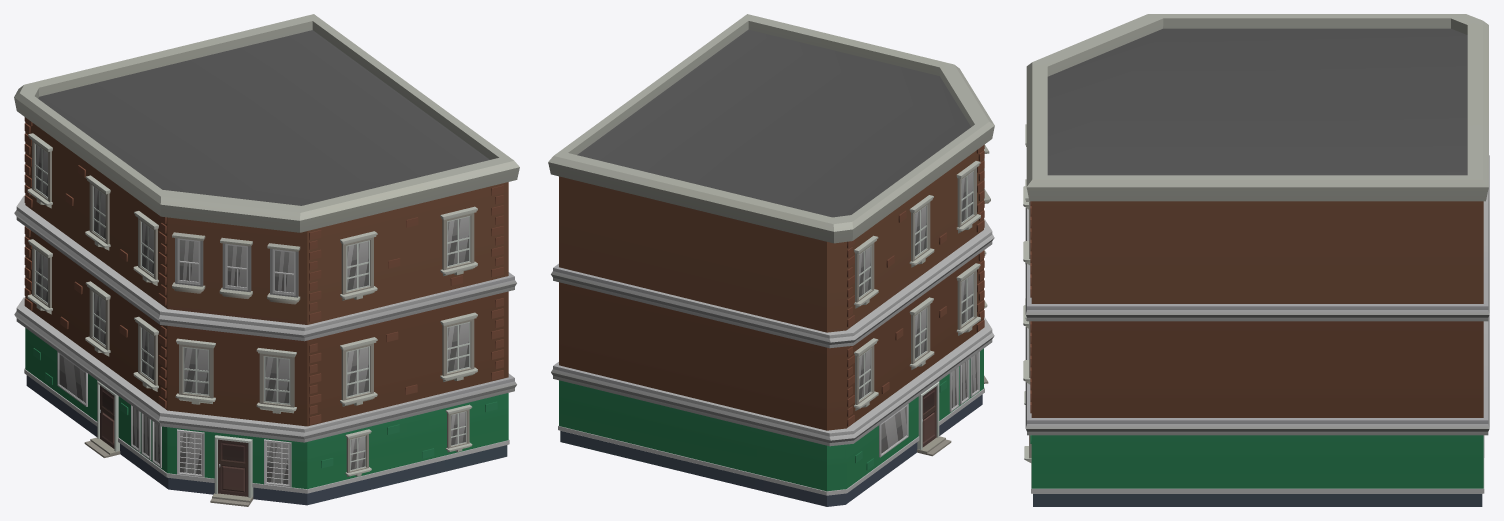
File: Building_25_3_H.fbx
The picture shows the model from 3 angles, left to right: view 1: azimuth 30°, elevation 25°; view 2: azimuth 150°, elevation 25°; view 3: azimuth 270°, elevation 25°; orthographic projection. The views are drawn at different scales.
Visible parts, largest first — view 1: Building_25_3_H; view 2: Building_25_3_H; view 3: Building_25_3_H.
Part boxes in pixels (box(x1,y1,x2,y2)): Building_25_3_H: box(14, 14, 519, 506); Building_25_3_H: box(548, 14, 994, 506); Building_25_3_H: box(1023, 14, 1489, 506).
Size of the model in its own units: 1291 by 1159 by 1479.
